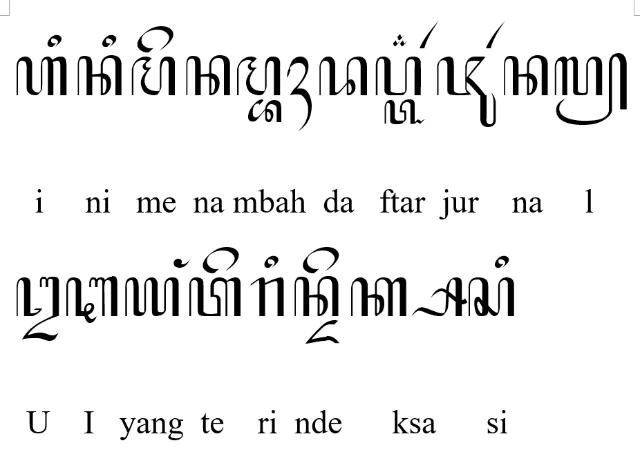-l: (554, 53, 628, 125)
I: (65, 276, 118, 324)
U: (15, 276, 61, 342)
_b: (248, 99, 282, 125)
_d: (304, 320, 340, 346)
_h1: (288, 56, 312, 132)
_r1: (418, 22, 438, 50), (486, 21, 506, 49)
_s: (409, 278, 467, 318)
_t: (384, 100, 426, 126)
alt: (393, 32, 407, 48)
d: (318, 55, 368, 97)
e: (202, 246, 240, 274), (301, 246, 339, 274), (136, 25, 174, 52)
h: (16, 56, 68, 97)
i: (46, 34, 62, 48), (102, 32, 116, 48), (494, 255, 510, 269), (264, 255, 280, 268)
ju: (437, 56, 497, 128)
k: (350, 276, 408, 318)
m: (236, 54, 282, 96), (130, 56, 176, 97)
n: (76, 55, 124, 98), (185, 54, 231, 96), (502, 55, 548, 97), (294, 276, 338, 318)
ng: (173, 258, 191, 268)
p: (376, 56, 422, 96)
r: (250, 278, 284, 318)
s: (468, 278, 516, 318)
t: (188, 277, 242, 317)
y: (124, 278, 180, 318)
